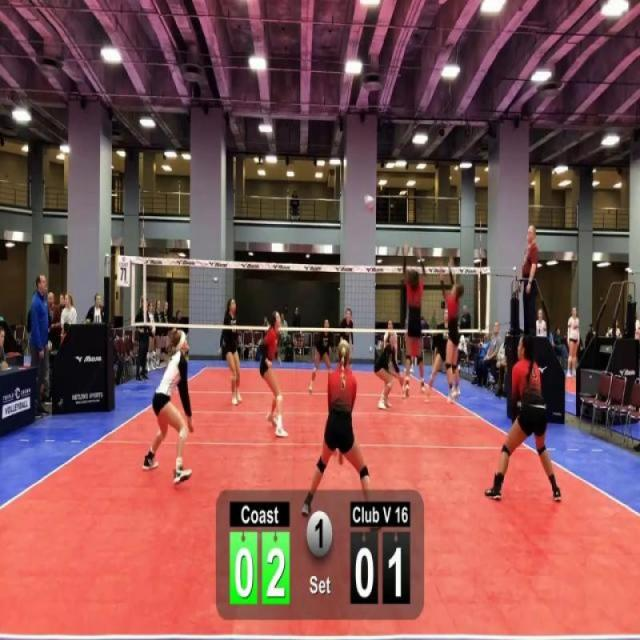volleyball: (362, 194, 376, 216)
